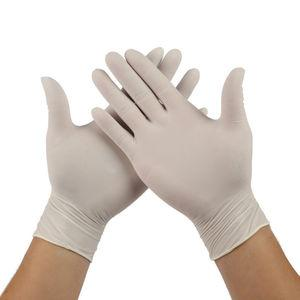gloves: (36, 48, 284, 268)
